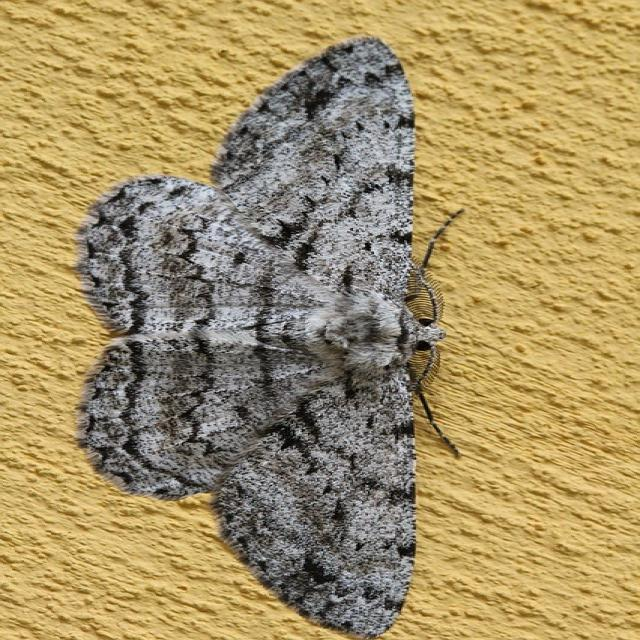butterfly: (74, 36, 440, 640)
